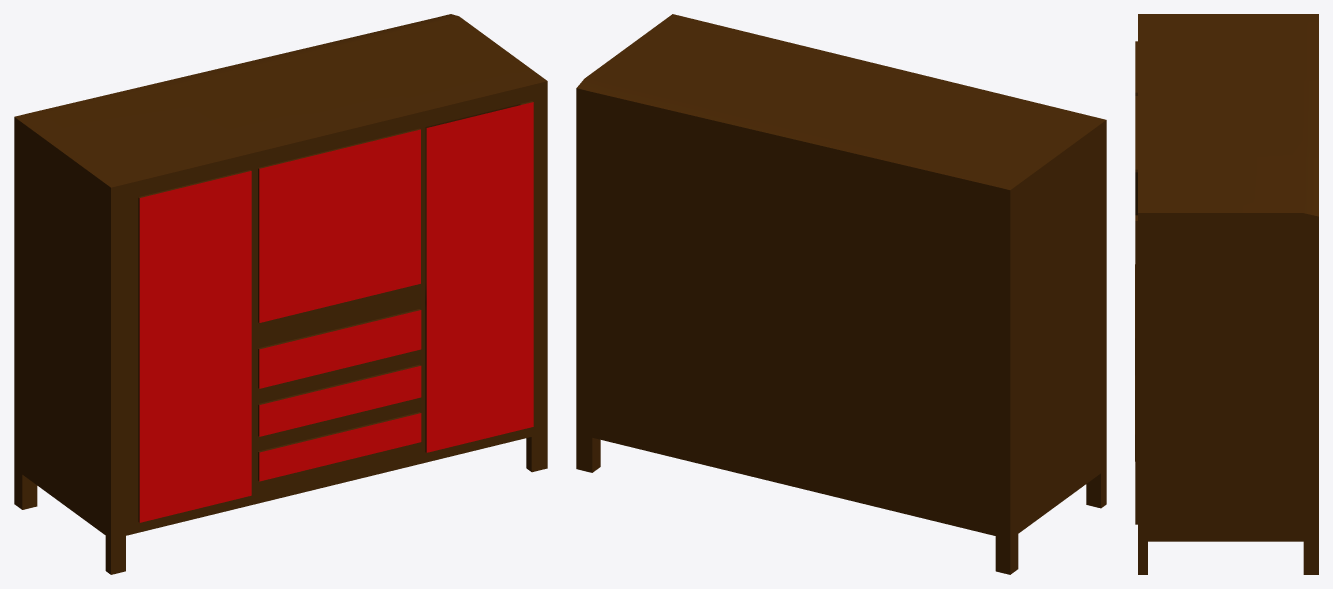
Rendered from armario.fbx.
3 renders of one model, left to right at view 1: azimuth 30°, elevation 25°; view 2: azimuth 150°, elevation 25°; view 3: azimuth 270°, elevation 25°, orthographic. The views are drawn at different scales.
Visible parts, largest first — view 1: pCube1; view 2: pCube1; view 3: pCube1.
Part boxes in pixels (bbox=[...]): pCube1: bbox=[14, 14, 547, 574]; pCube1: bbox=[576, 14, 1106, 574]; pCube1: bbox=[1135, 14, 1318, 574].
Size of the model in its own units: 8.99 by 7.62 by 3.51.
